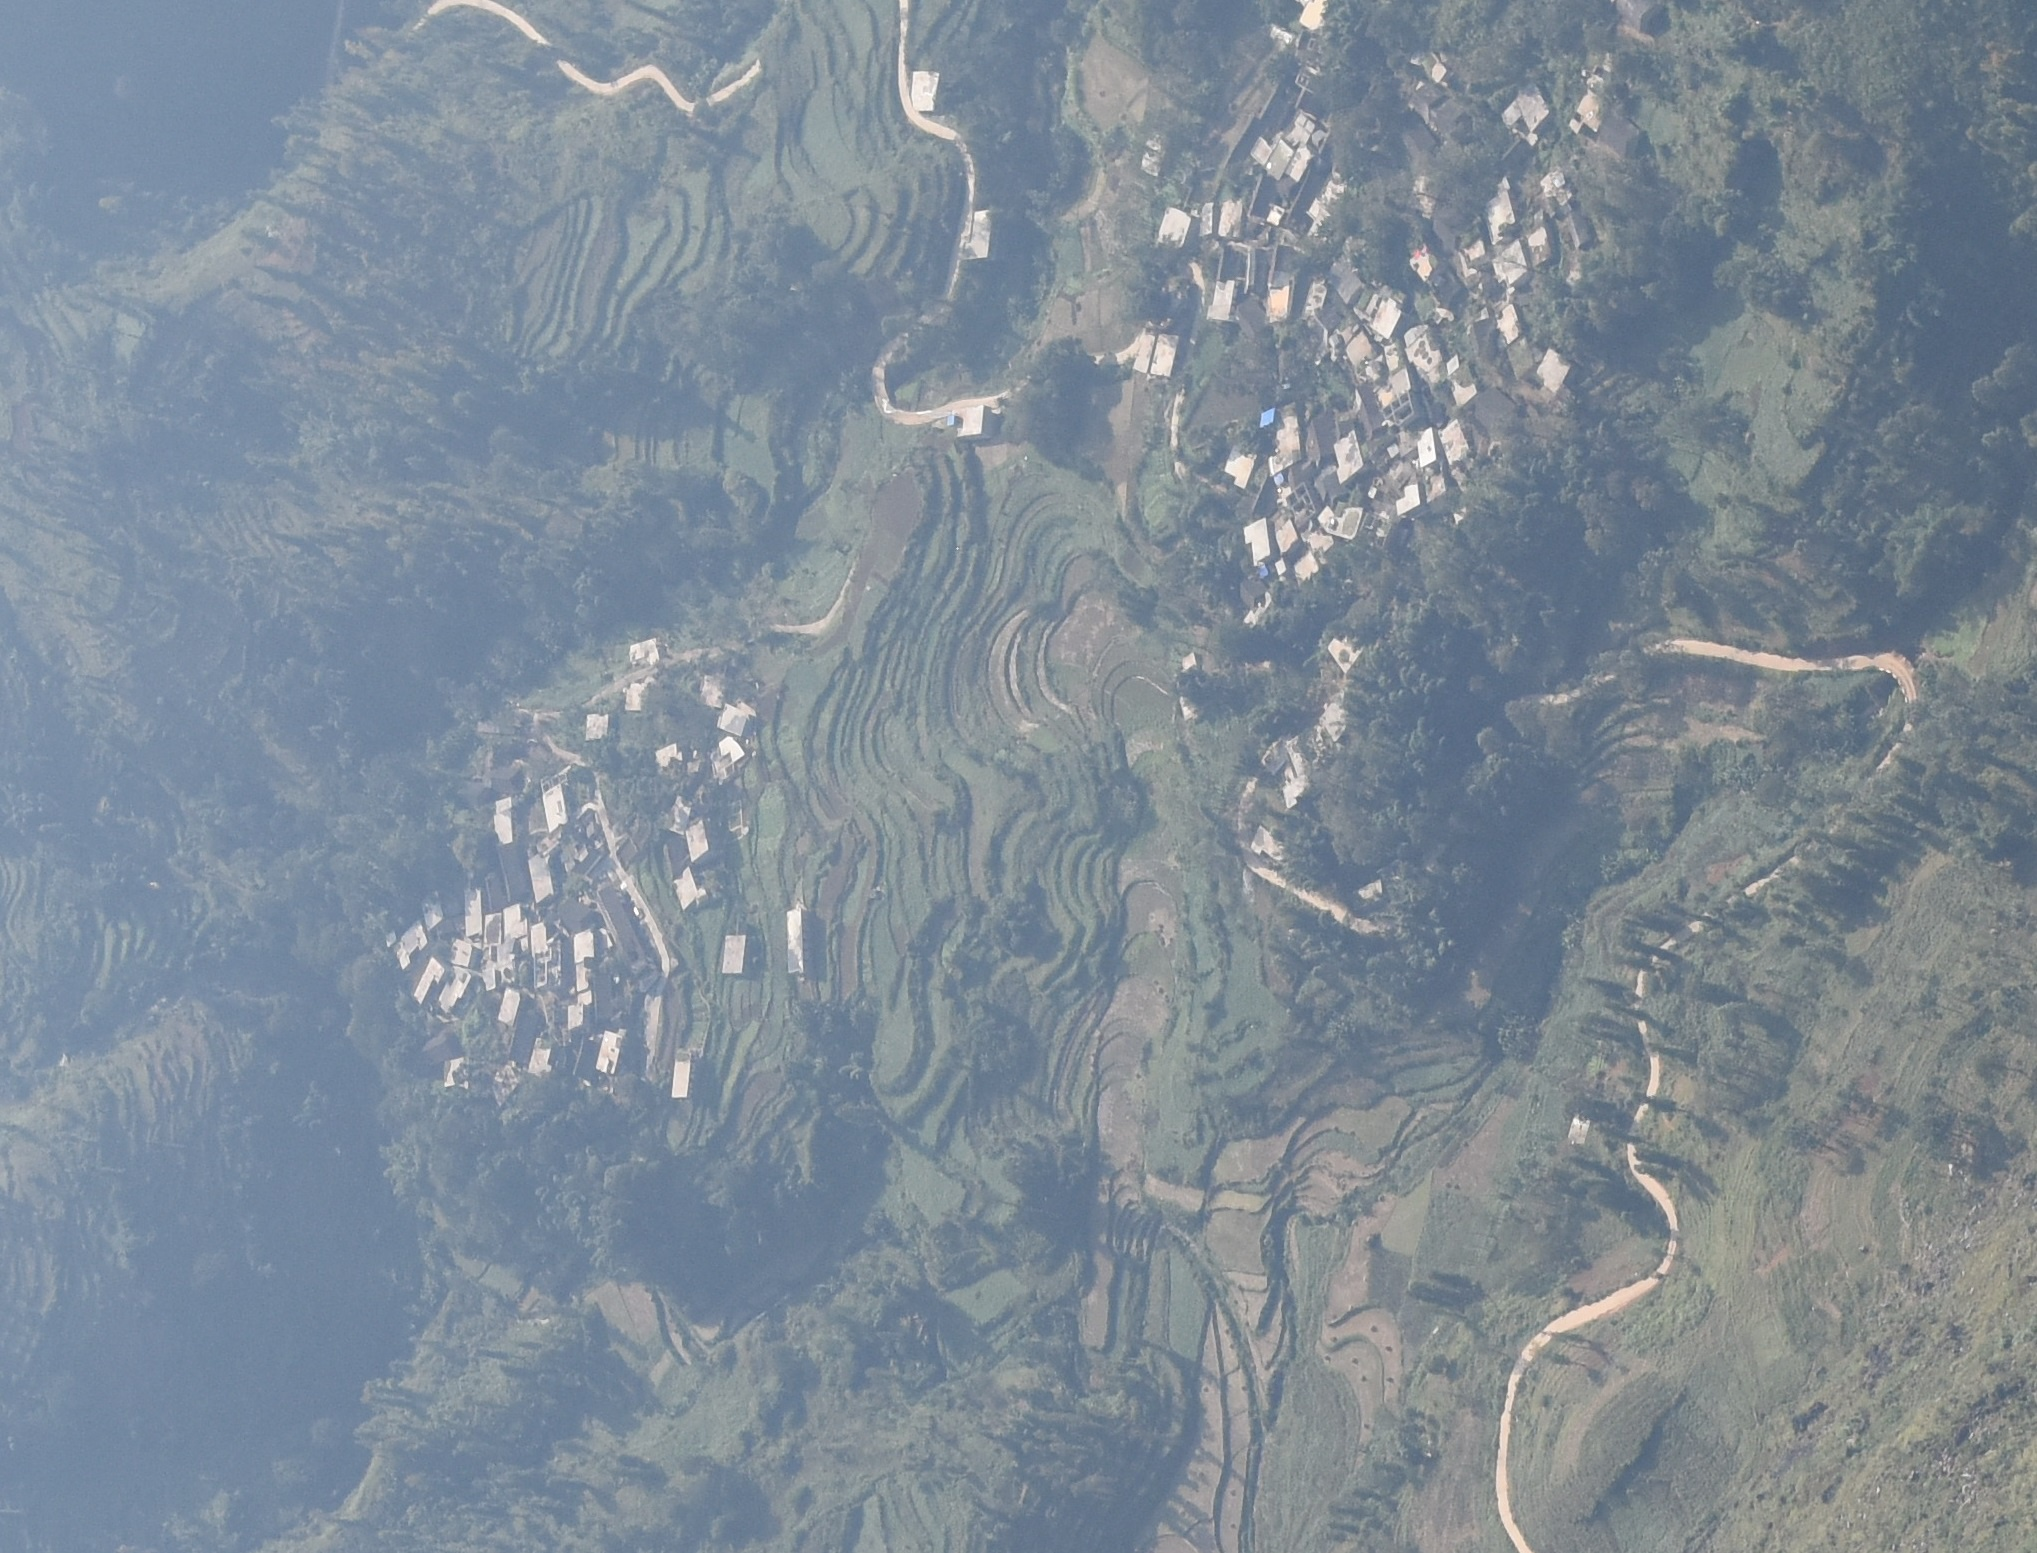building: (1571, 59, 1650, 147), (592, 886, 654, 977), (1541, 168, 1597, 243), (1251, 117, 1315, 179), (1261, 736, 1318, 804), (1297, 179, 1360, 237), (1363, 346, 1411, 401), (1399, 325, 1443, 383), (1308, 507, 1363, 551), (1504, 86, 1553, 135), (1417, 419, 1469, 463), (1394, 475, 1455, 512), (1133, 326, 1178, 377), (530, 922, 563, 989), (1270, 405, 1303, 471), (475, 941, 524, 985), (784, 907, 814, 979), (387, 920, 431, 967), (555, 825, 603, 866), (1318, 692, 1359, 741), (1303, 408, 1336, 467), (682, 816, 719, 866), (1326, 326, 1373, 365), (1158, 202, 1192, 254), (1332, 427, 1367, 480), (1406, 173, 1447, 215), (1328, 628, 1368, 670), (1326, 259, 1362, 307), (1239, 577, 1274, 626), (708, 736, 745, 780), (1535, 347, 1572, 392), (1492, 241, 1530, 285), (670, 868, 706, 914), (714, 701, 762, 736), (576, 931, 599, 1002), (528, 1033, 561, 1082), (435, 967, 471, 1011), (946, 405, 996, 436), (1482, 191, 1517, 237), (962, 209, 992, 261), (1248, 824, 1288, 861), (670, 1047, 698, 1101), (527, 850, 555, 904), (1452, 240, 1487, 281), (1220, 450, 1257, 488), (540, 785, 569, 832), (1142, 126, 1168, 178), (597, 1026, 625, 1075), (491, 1065, 525, 1104), (661, 793, 692, 835), (1243, 519, 1272, 563), (414, 961, 444, 1003), (493, 793, 515, 847), (1373, 294, 1401, 338), (1205, 281, 1235, 321), (1496, 305, 1525, 346), (462, 884, 484, 936), (1448, 356, 1474, 401), (721, 931, 747, 976), (912, 72, 941, 111), (1269, 512, 1298, 551), (439, 1057, 473, 1090), (1403, 243, 1434, 279), (1218, 201, 1244, 243), (1267, 276, 1290, 323), (1303, 277, 1326, 325), (652, 741, 683, 775), (504, 902, 530, 941), (1355, 876, 1391, 904), (1527, 228, 1553, 264), (421, 892, 445, 930), (496, 987, 520, 1024), (445, 936, 475, 967), (1297, 2, 1329, 29), (701, 675, 726, 711), (625, 680, 652, 711), (1567, 1111, 1590, 1148), (628, 636, 661, 662), (1178, 692, 1204, 723), (1293, 555, 1319, 584), (585, 711, 608, 741), (484, 914, 504, 945), (1425, 59, 1452, 82), (1197, 201, 1213, 237), (566, 1003, 584, 1029), (1181, 651, 1197, 667)
prefabricated-house: (1257, 409, 1275, 426)
vehicle: (633, 905, 646, 920)
